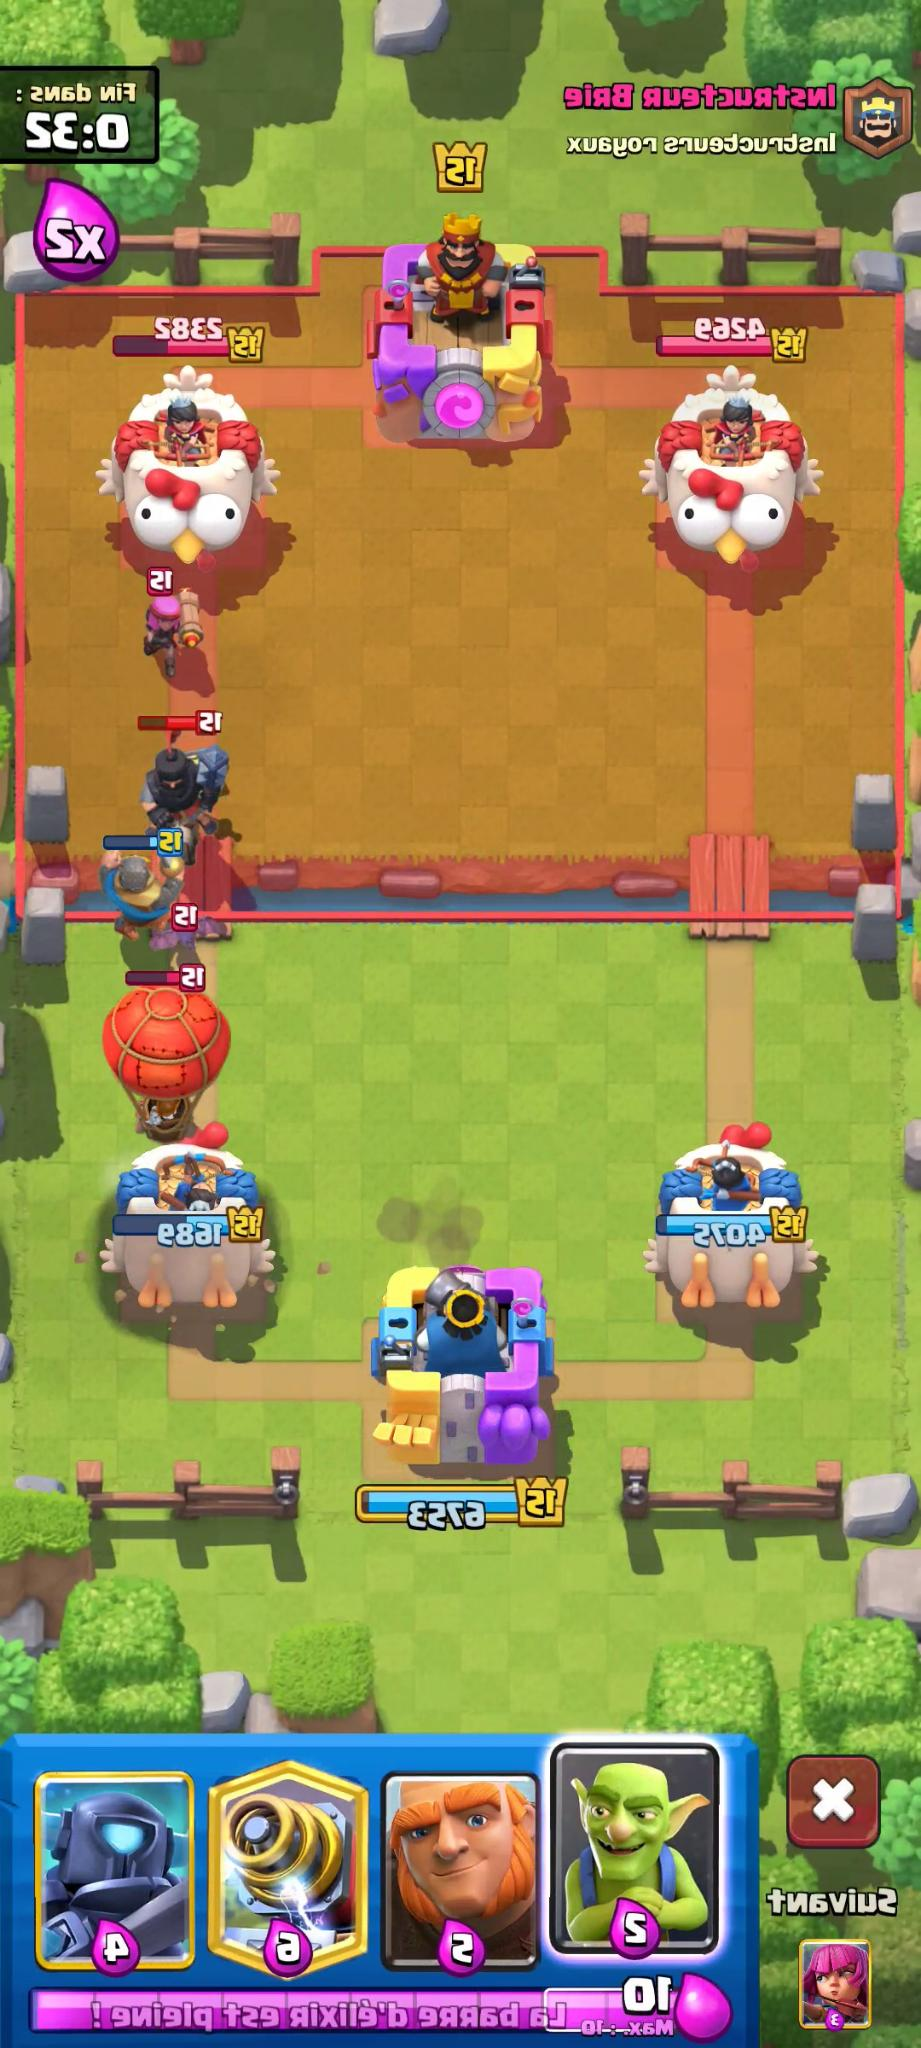bat: (146, 900, 240, 953)
chevalier: (94, 832, 184, 948)
